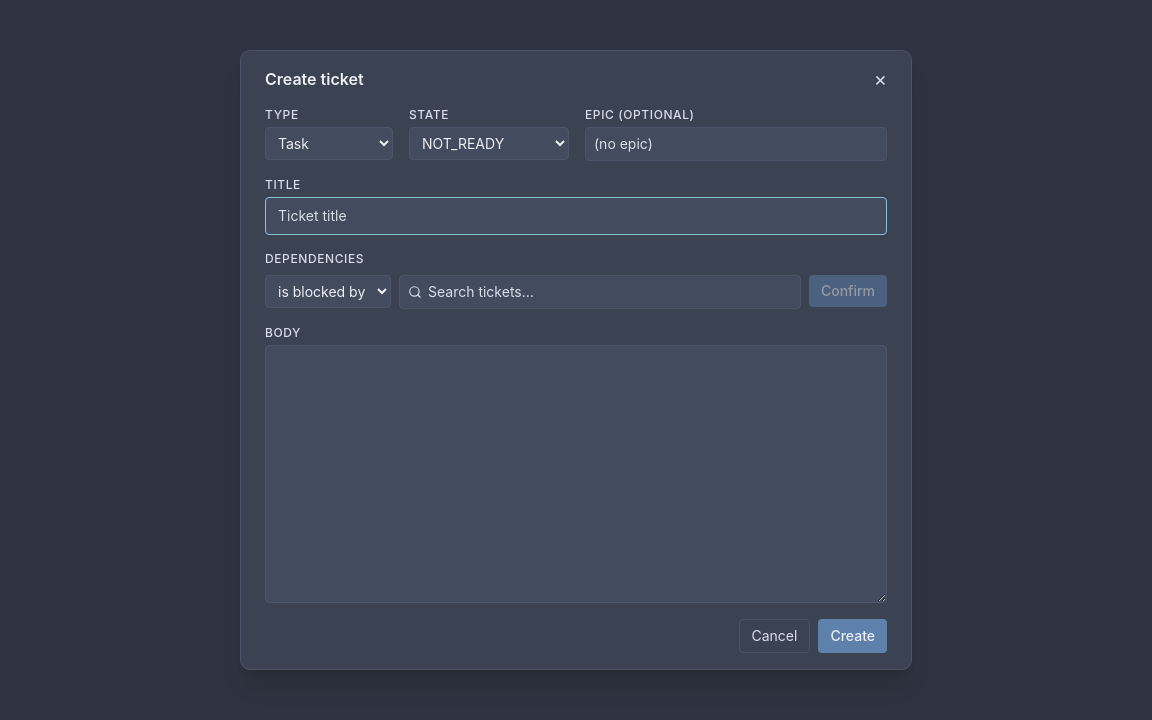
Test case: CreateTicketModal — dependency persistence › should display the server's invalid-input message in the error banner when the POST rejects
Type "My new ticket" into the field labelled "Title" at (576, 216), box [265, 197, 887, 235]
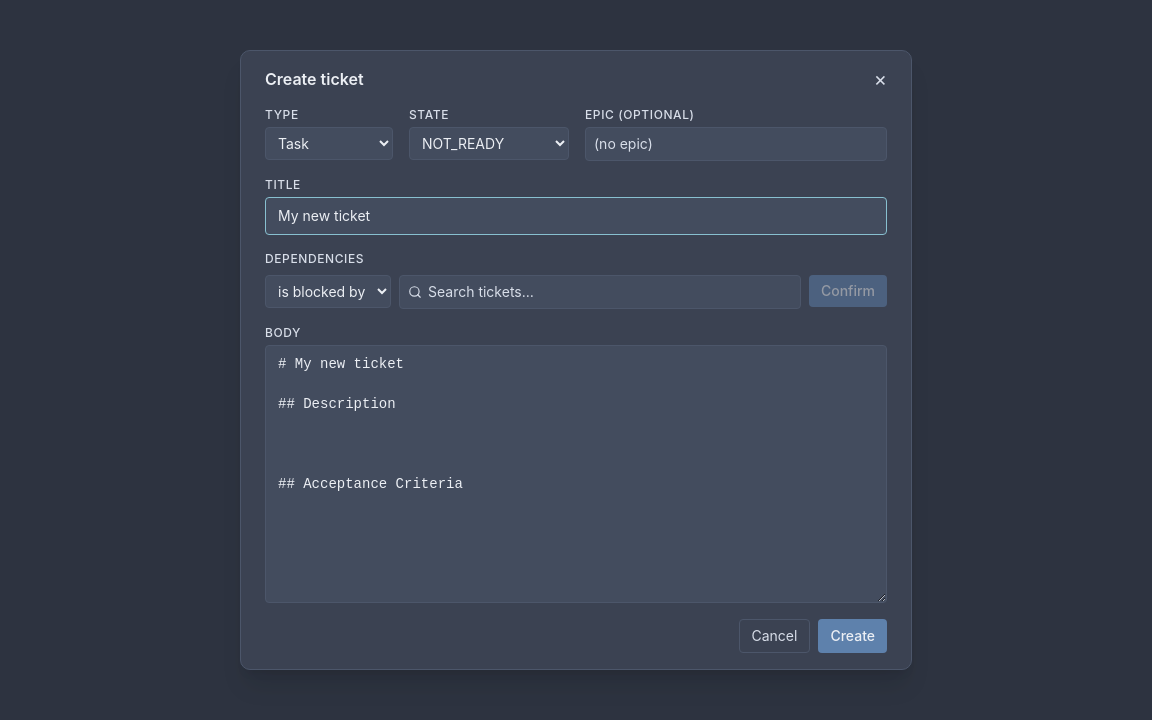
Click the field with placeholder "Search tickets…" at (611, 292), box [422, 276, 800, 308]
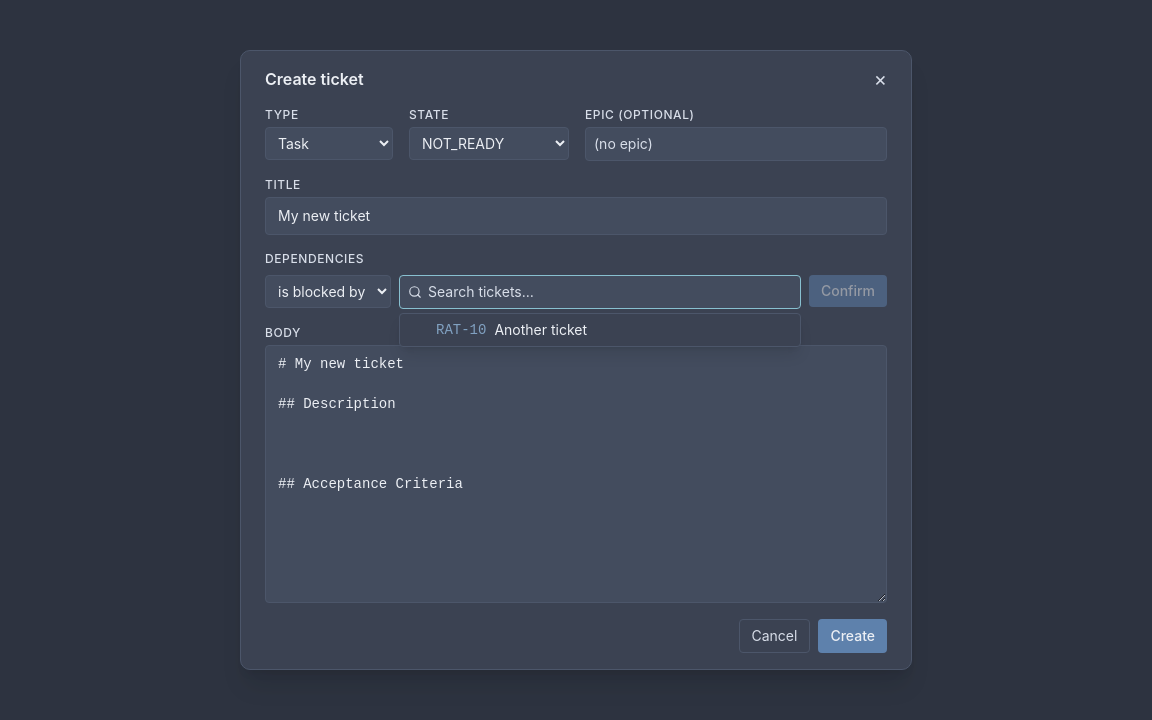
Click the text "Another ticket" at (541, 330), box [494, 320, 587, 340]
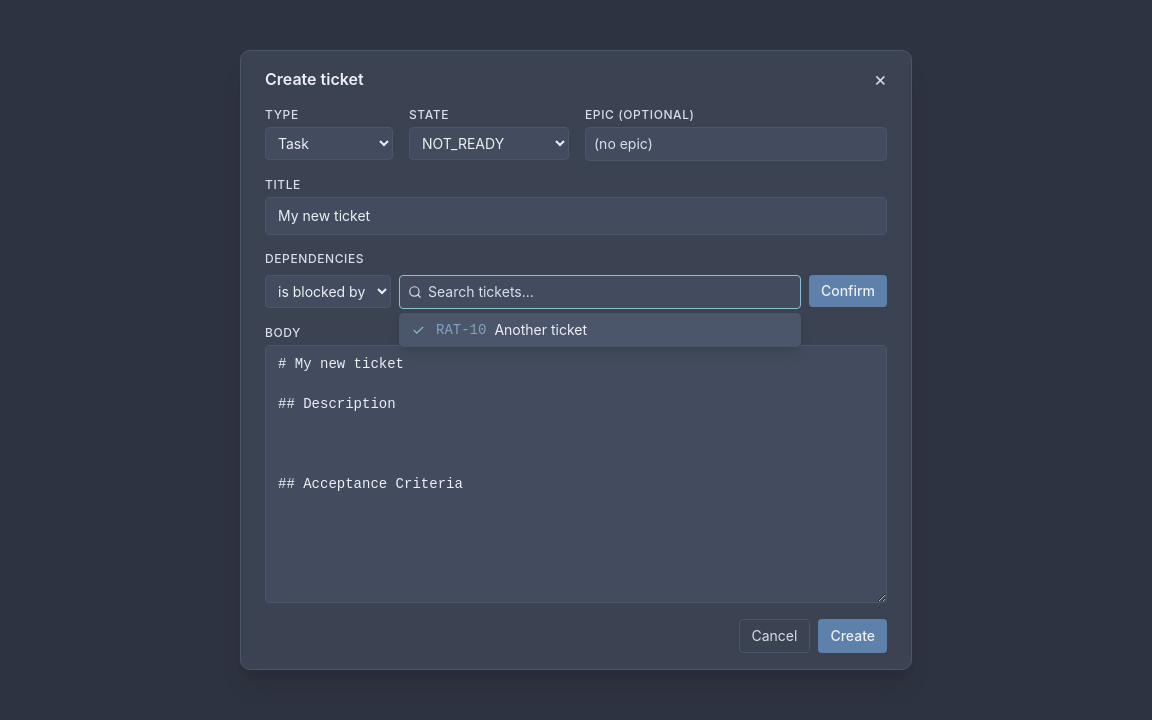
Click the button "Confirm" at (848, 291), box [809, 275, 887, 307]
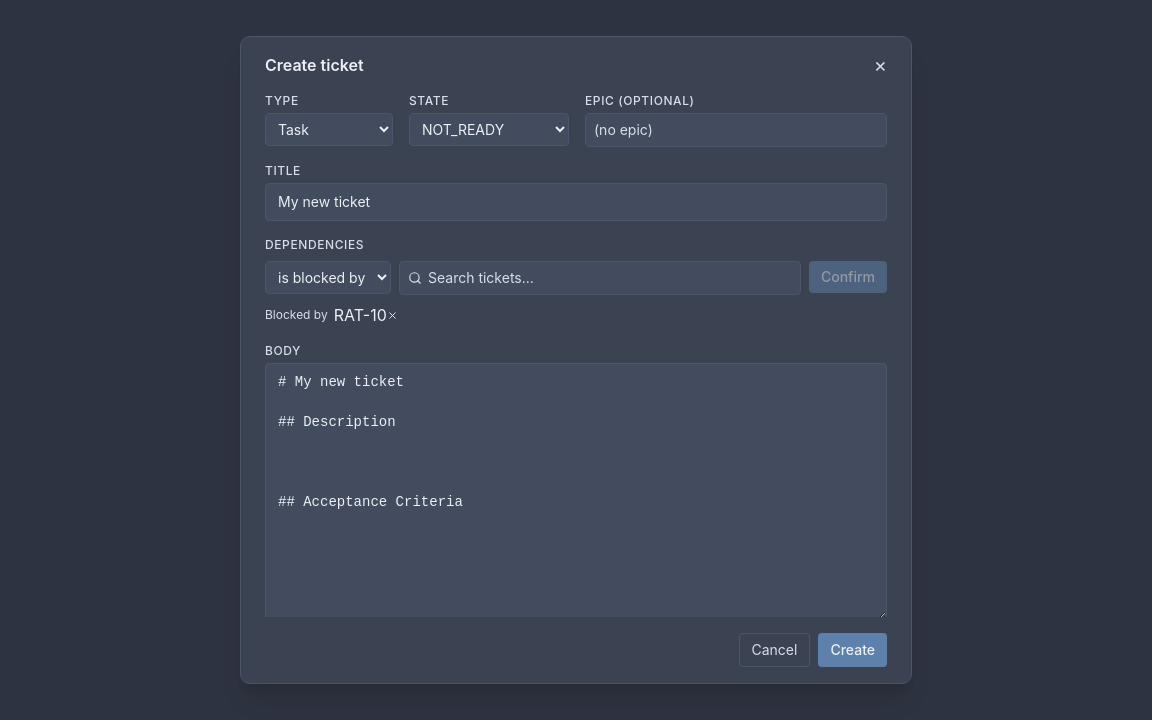
Click the button "Create" at (853, 650), box [818, 633, 887, 667]
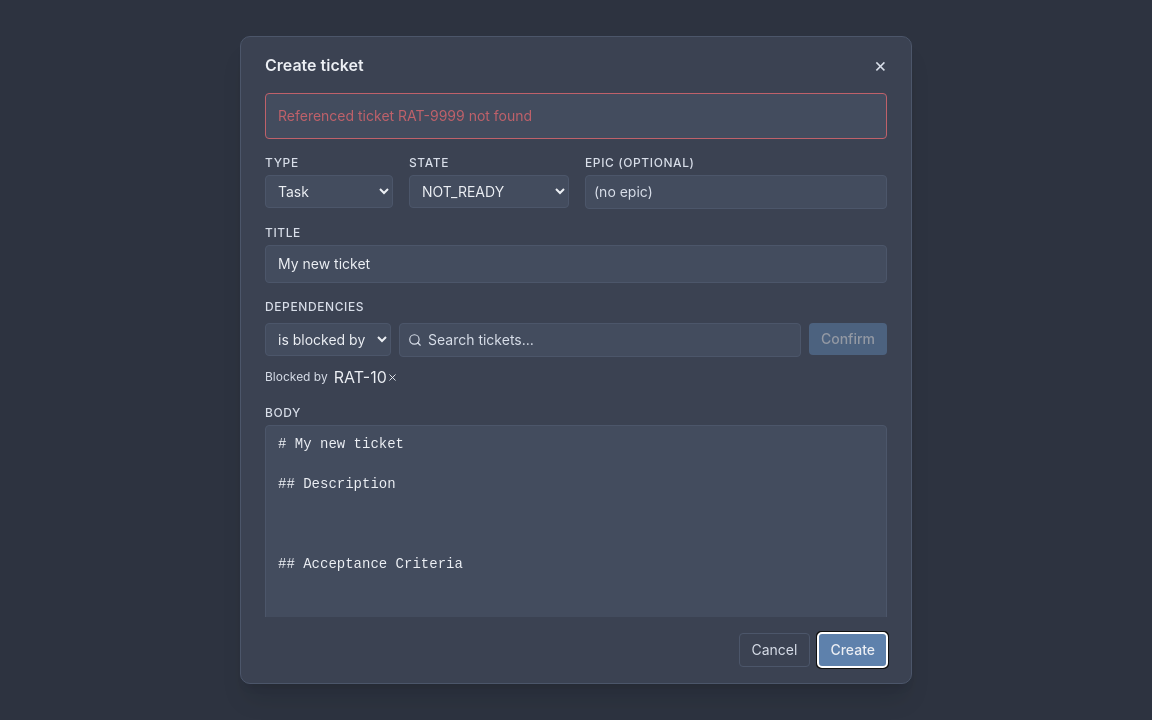
expect the text "Referenced ticket RAT-9999 not found" is shown: met, box [265, 93, 887, 139]
